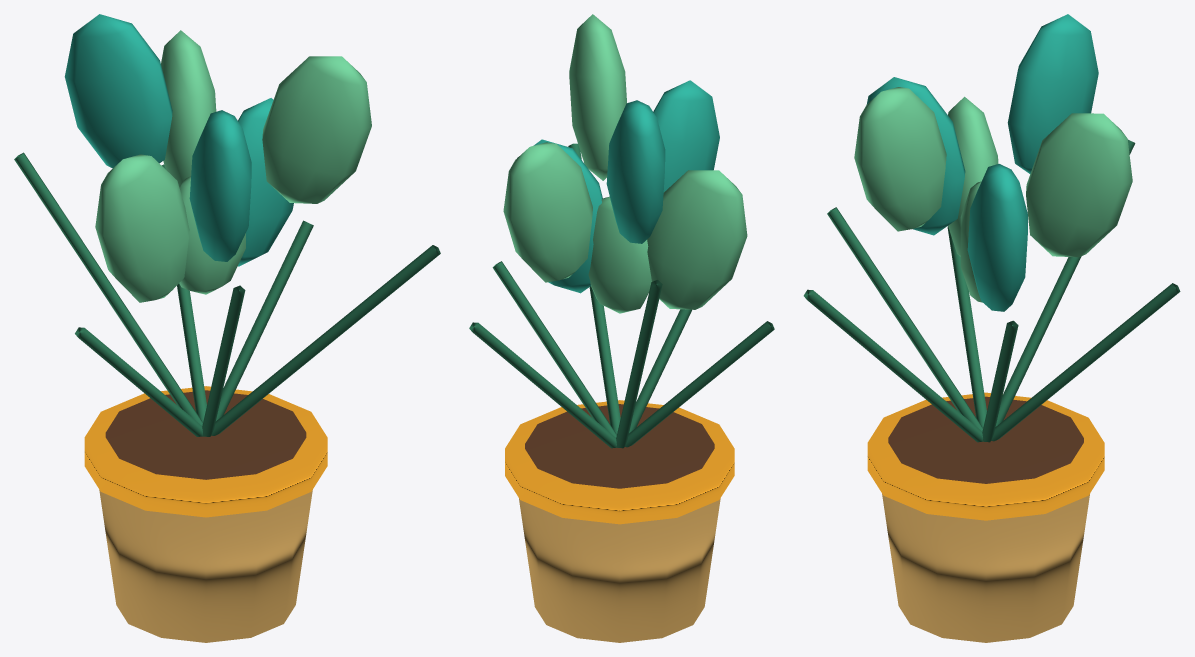
Rendered from plant.glb.
3 renders of one model, left to right at view 1: azimuth 30°, elevation 25°; view 2: azimuth 150°, elevation 25°; view 3: azimuth 270°, elevation 25°, orthographic. The views are drawn at different scales.
Visible parts, largest first — view 1: Plant.001; view 2: Plant.001; view 3: Plant.001.
Part boxes in pixels (bbox=[...]): Plant.001: bbox=[14, 14, 440, 642]; Plant.001: bbox=[469, 14, 774, 642]; Plant.001: bbox=[803, 14, 1180, 642].
Bounding box in the file's own units: 0.6323 × 1.2 × 0.7322.
